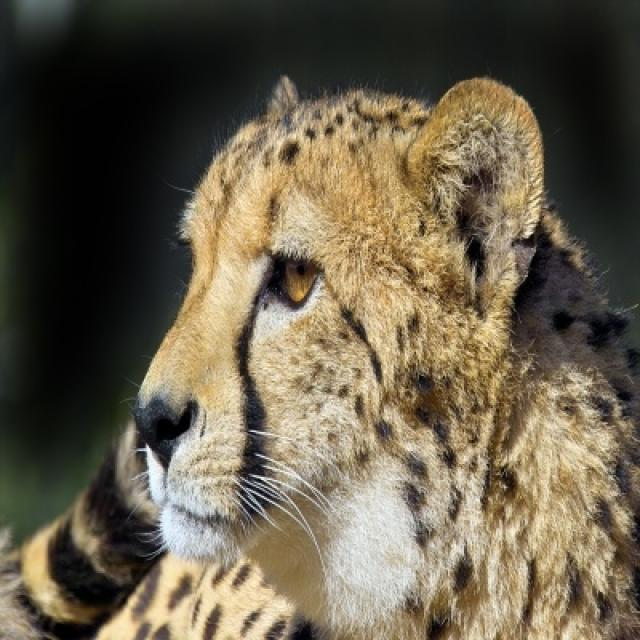Cheetah: (0, 73, 631, 638)
